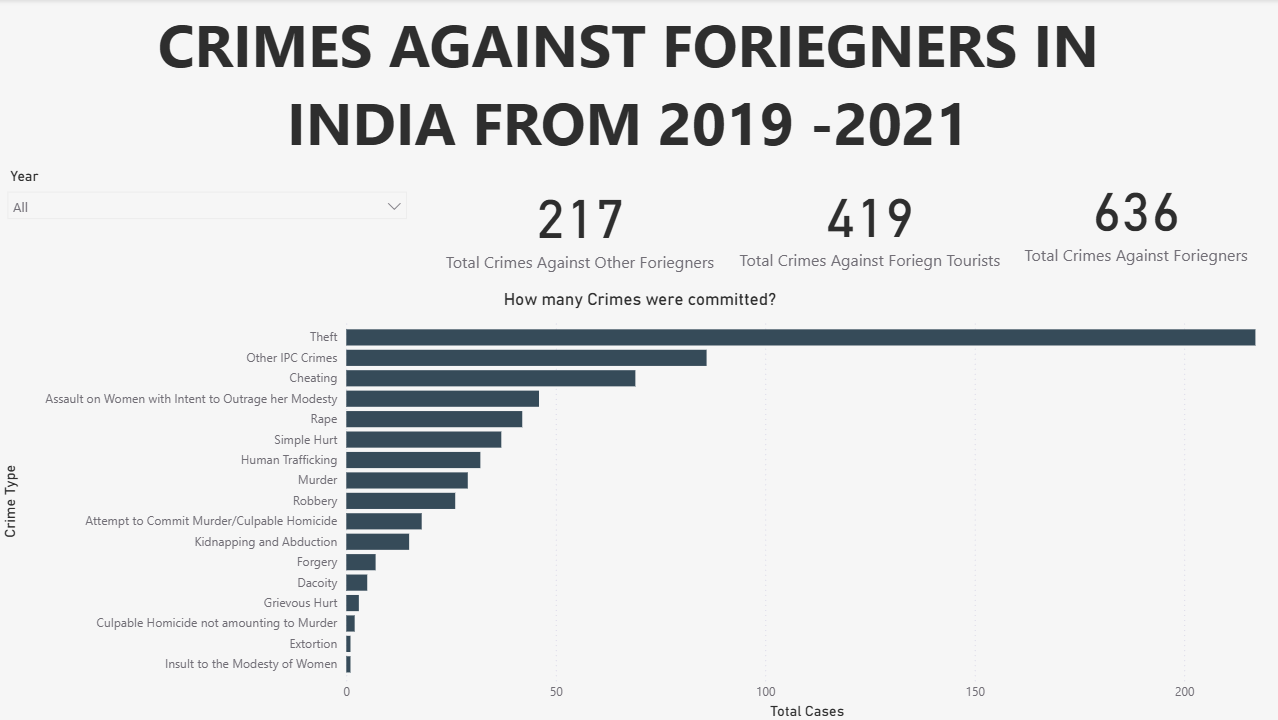

What the dashboard file says about the page in this screenshot:
{"tool":"powerbi","page":{"name":"Crimes Against Foriegners","canvas":[1280,720],"ordinal":1},"visuals":[{"type":"textbox","box":[75.5,0,1104.6,189.4],"z":0},{"type":"card","fields":{"Values":["Sum(Sheet1.Cases of Crimes Committed against - Total Foreigners (Col.3 + Col.4))"]},"box":[1006.4,154.3,242.6,155.5],"z":1000},{"type":"clusteredBarChart","title":"How many Crimes were committed?","fields":{"Category":["Crimes_against_foriegners_2021.Crime Head - Col. (2)"],"Y":["Sum(Sheet1.Cases of Crimes Committed against - Total Foreigners (Col.3 + Col.4))"]},"box":[0,309,1279.8,412],"z":2000},{"type":"card","fields":{"Values":["Sum(Sheet1.Cases of Crimes Committed against - Other  Foreigners)"]},"box":[429.2,167.9,302.3,136.8],"z":3000},{"type":"card","fields":{"Values":["Sum(Sheet1.Cases of Crimes Committed against - Foreign Tourists)"]},"box":[731.4,165.4,274.9,139.3],"z":4000},{"type":"slicer","fields":{"Values":["Sheet1.Year"]},"box":[0,163,418,146.8],"z":5000}]}

Visuals, with their boxes in screenshot pixels (x1, y1, x2, y2), scaled from the page's 1280x720 canvas onto the 1278x720 screenshot:
textbox: 75:0:1178:189
card - Sum(Sheet1.Cases of Crimes Committed against - Total Foreigners (Col.3 + Col.4)): 1005:154:1247:310
"How many Crimes were committed?" clusteredBarChart: 0:309:1277:719
card - Sum(Sheet1.Cases of Crimes Committed against - Other  Foreigners): 429:168:730:305
card - Sum(Sheet1.Cases of Crimes Committed against - Foreign Tourists): 730:165:1005:305
slicer - Sheet1.Year: 0:163:417:310
